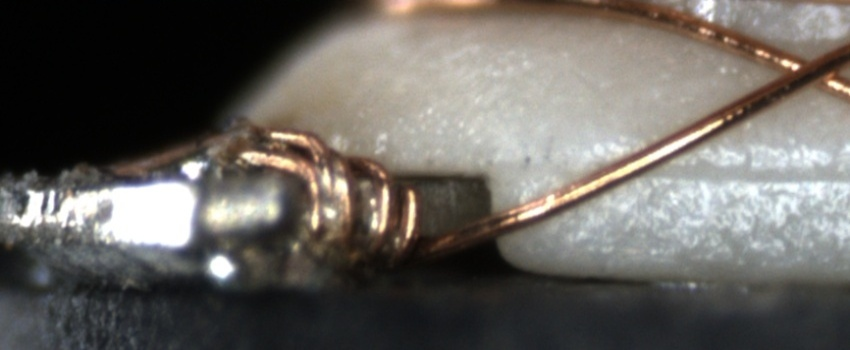CL: (761, 39, 849, 100)
DL: (588, 138, 849, 199)
TE: (220, 118, 436, 276)
